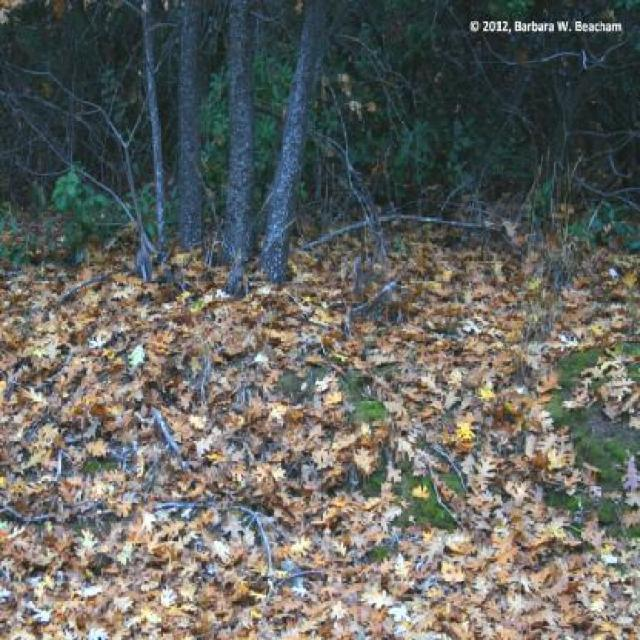garbage: (3, 258, 640, 640)
